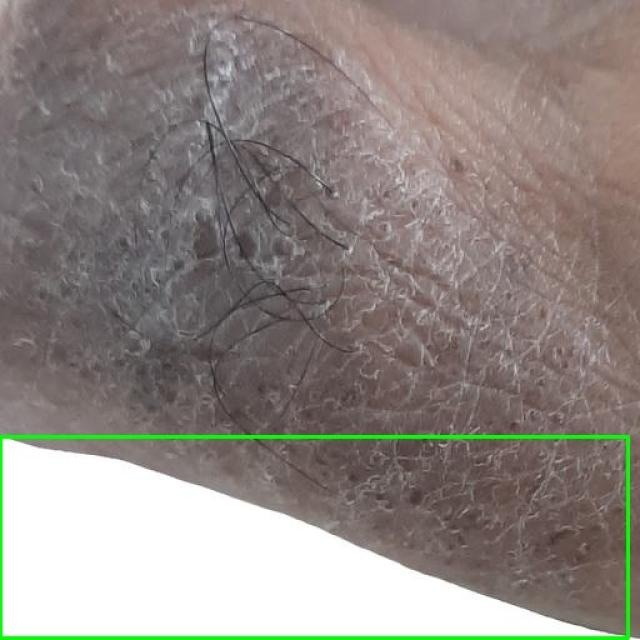Eczema: (0, 438, 629, 639)
